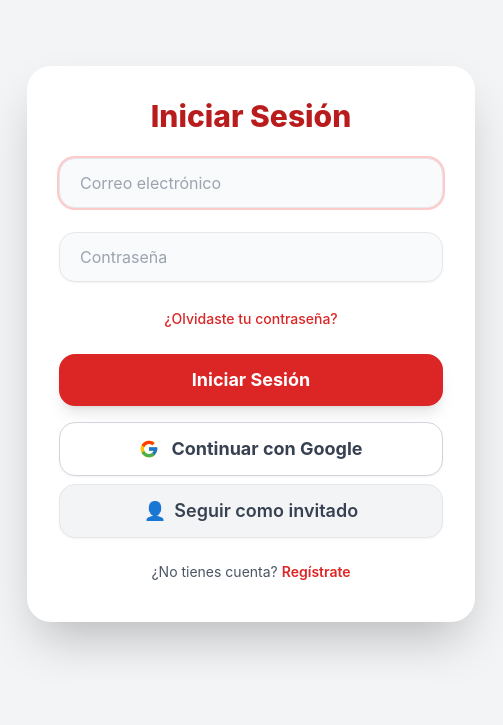
it: Auth Component › does not show forgot password link in register mode
# Cambiar a modo registro
Click the text "Regístrate". click: point(316, 572)
box: [282, 563, 350, 580]
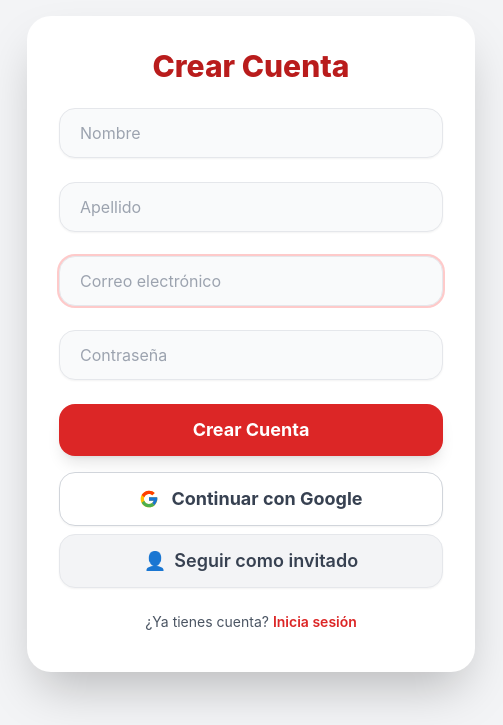
Check: the button "¿Olvidaste tu contraseña?" is gone
